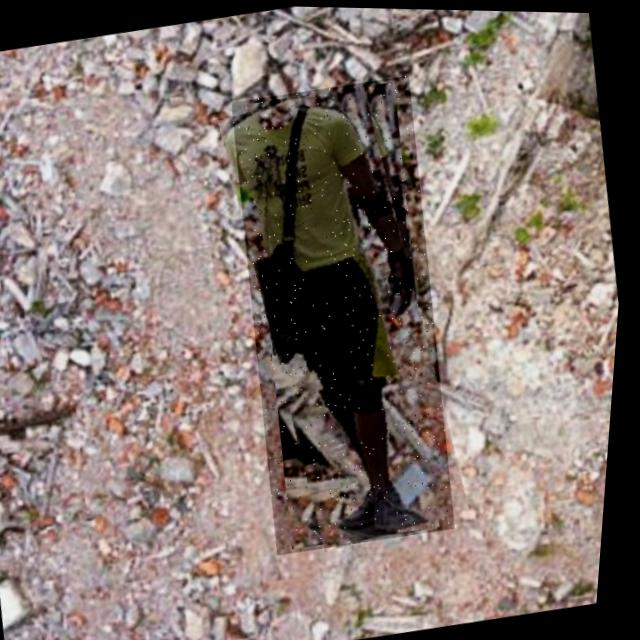Person in Rubble: (206, 70, 489, 557)
